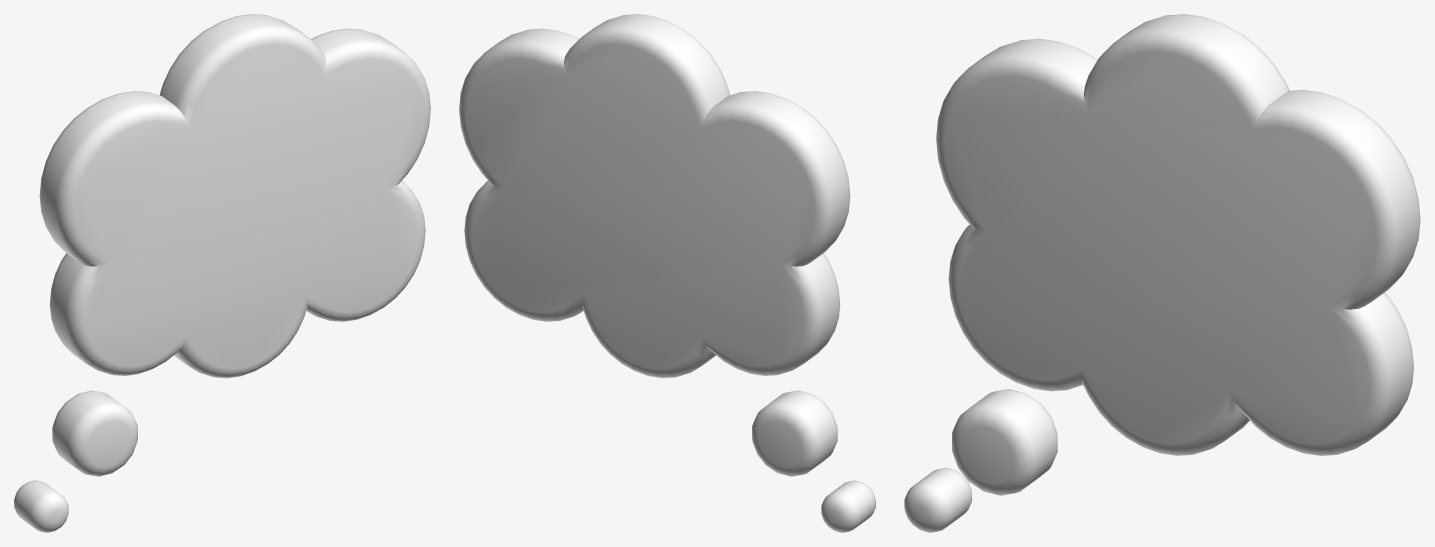
Rendered from thought_balloon.glb.
3 views of the same model, side by side, from view 1: azimuth 30°, elevation 25°; view 2: azimuth 150°, elevation 25°; view 3: azimuth 330°, elevation 25° (orthographic). The views are drawn at different scales.
Visible parts, largest first — view 1: Circle.026; view 2: Circle.026; view 3: Circle.026.
Part boxes in pixels (box(x1,y1,x2,y2)): Circle.026: box(14, 14, 430, 532); Circle.026: box(459, 14, 875, 532); Circle.026: box(904, 14, 1420, 532).
Size of the model in its own units: 1.78 by 1.93 by 0.22.
Materials: 1 (1 with a texture image).
